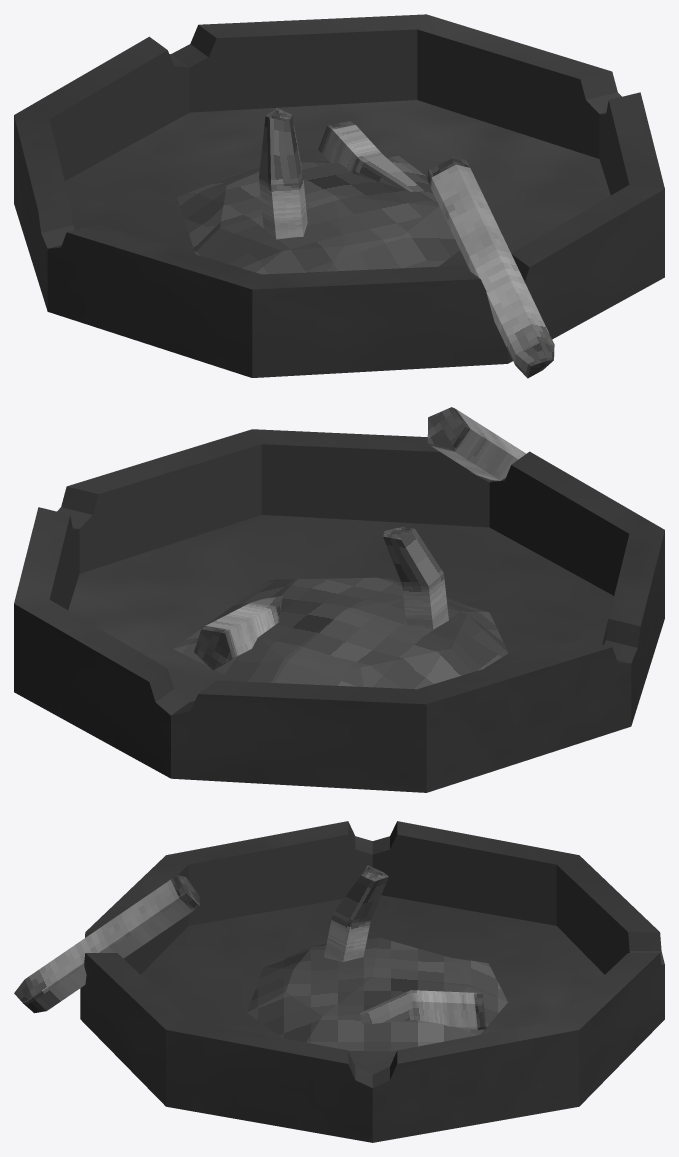
File: AshTray.fbx
The picture shows the model from 3 angles, top to bottom: view 1: azimuth 30°, elevation 25°; view 2: azimuth 150°, elevation 25°; view 3: azimuth 270°, elevation 25°; orthographic projection. The views are drawn at different scales.
Parts seen in each view (by area): view 1: AshTray, Ash, Cig; view 2: AshTray, Ash, Cig; view 3: AshTray, Ash, Cig.
Part boxes in pixels (left/top/right/bottom): AshTray: left=14, top=14, right=664, bottom=377; Ash: left=177, top=108, right=459, bottom=274; Cig: left=427, top=156, right=554, bottom=378; AshTray: left=14, top=429, right=664, bottom=792; Ash: left=173, top=526, right=508, bottom=689; Cig: left=427, top=407, right=526, bottom=480; AshTray: left=80, top=821, right=664, bottom=1142; Ash: left=247, top=865, right=507, bottom=1051; Cig: left=14, top=875, right=199, bottom=1013.
Size of the model in its own units: 40.09 by 10.91 by 44.65.
